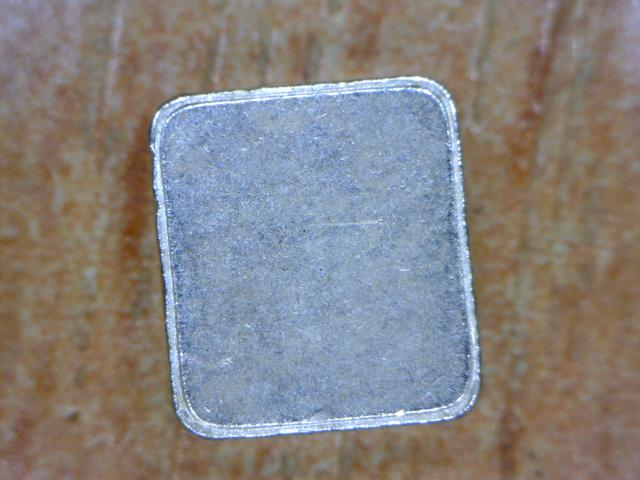nok: (139, 70, 516, 438)
